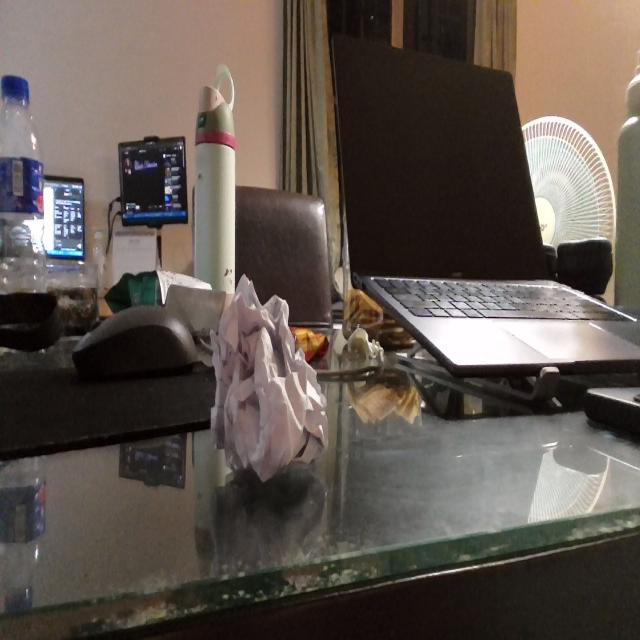crumpled_paper: (207, 269, 333, 492)
